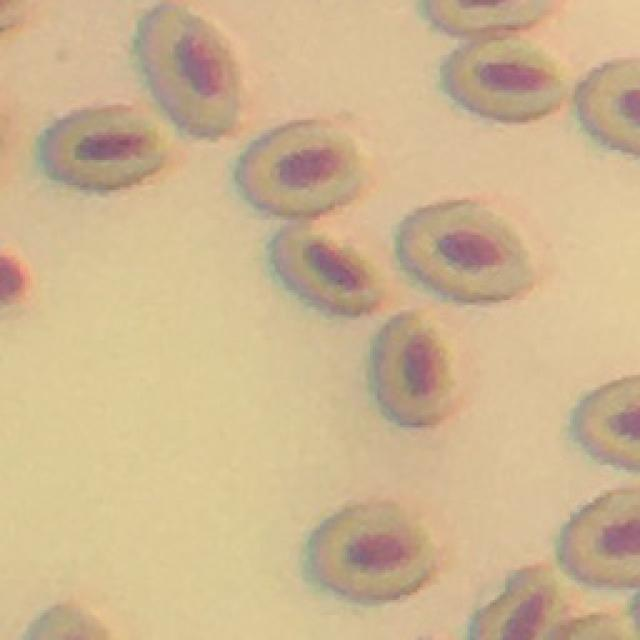RBC: (399, 202, 531, 301), (139, 5, 238, 136), (310, 504, 432, 600), (238, 121, 359, 216), (42, 106, 164, 190), (372, 311, 456, 425), (274, 225, 381, 314), (449, 39, 561, 119), (561, 489, 640, 587), (471, 568, 561, 640), (574, 376, 640, 469), (576, 60, 640, 154), (430, 1, 551, 33)
WBC: (0, 255, 25, 301)
